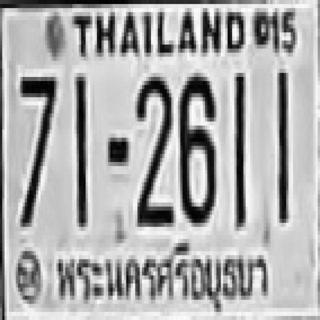N01: (74, 71, 86, 225), (232, 71, 243, 225), (275, 67, 286, 221)
N02: (135, 73, 171, 223)
N06: (178, 71, 214, 225)
N07: (18, 73, 54, 223)
P03: (54, 238, 272, 312)
